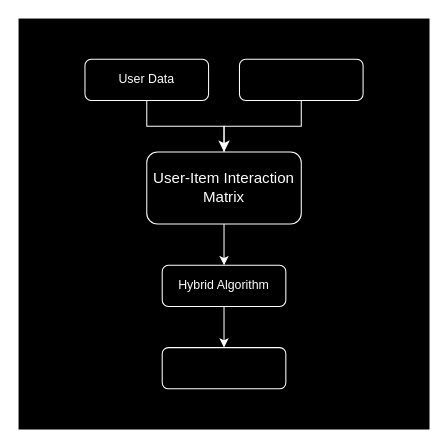
The diagram is 448 pixels wide and 448 high, and some of its shapes have lost their labels. Here are the shapes that lost their labels. From the top down, the centre of each, then its label:
the point at 300,79: Article Data
the point at 223,368: Recommended Articles
